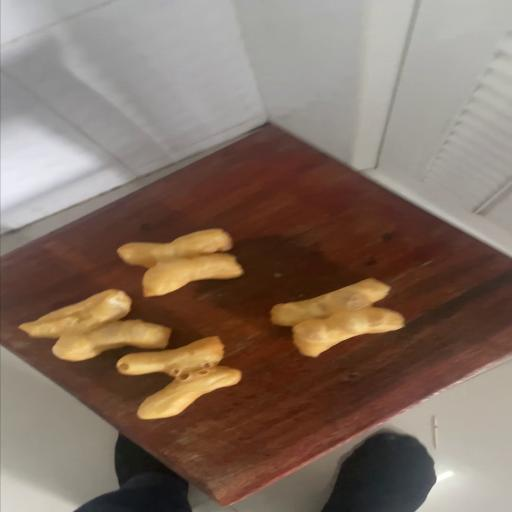street_golden_defect: (21, 288, 170, 360), (116, 338, 238, 420)
street_golden_good: (267, 280, 402, 355), (118, 229, 241, 295)
